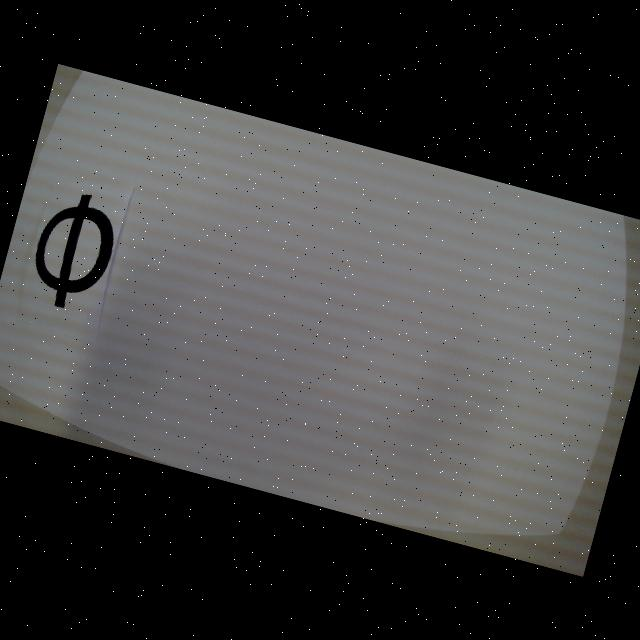PHI: (23, 185, 126, 317)
